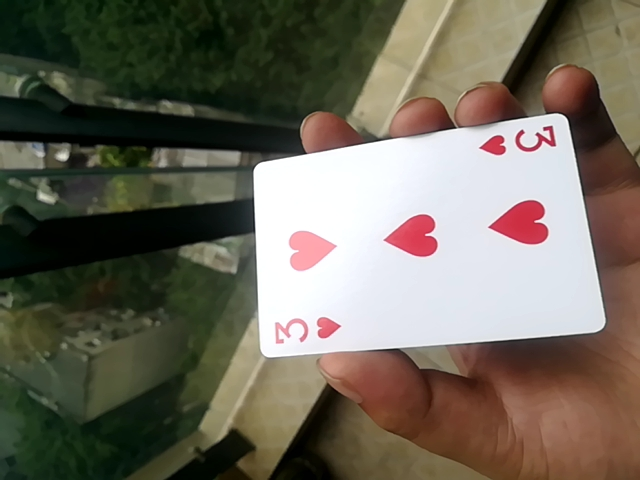hx 3: (249, 108, 601, 366)
